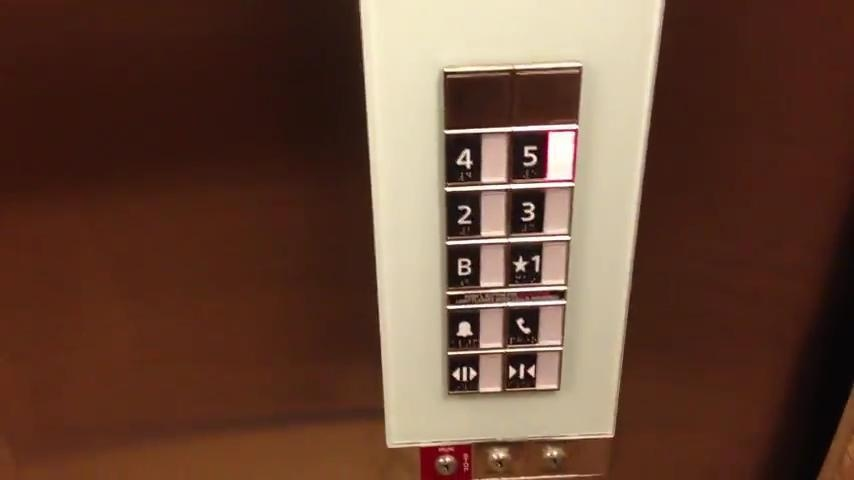2: (436, 184, 511, 243)
3: (504, 183, 577, 240)
4: (438, 124, 514, 190)
5: (502, 121, 581, 187)
B: (438, 241, 510, 293)
alarm: (442, 301, 506, 353)
call: (501, 298, 569, 352)
close: (500, 344, 563, 396)
keyhole: (420, 444, 474, 478), (483, 445, 516, 478), (537, 442, 569, 476)
open: (439, 346, 508, 399)
s1: (502, 237, 572, 290)
